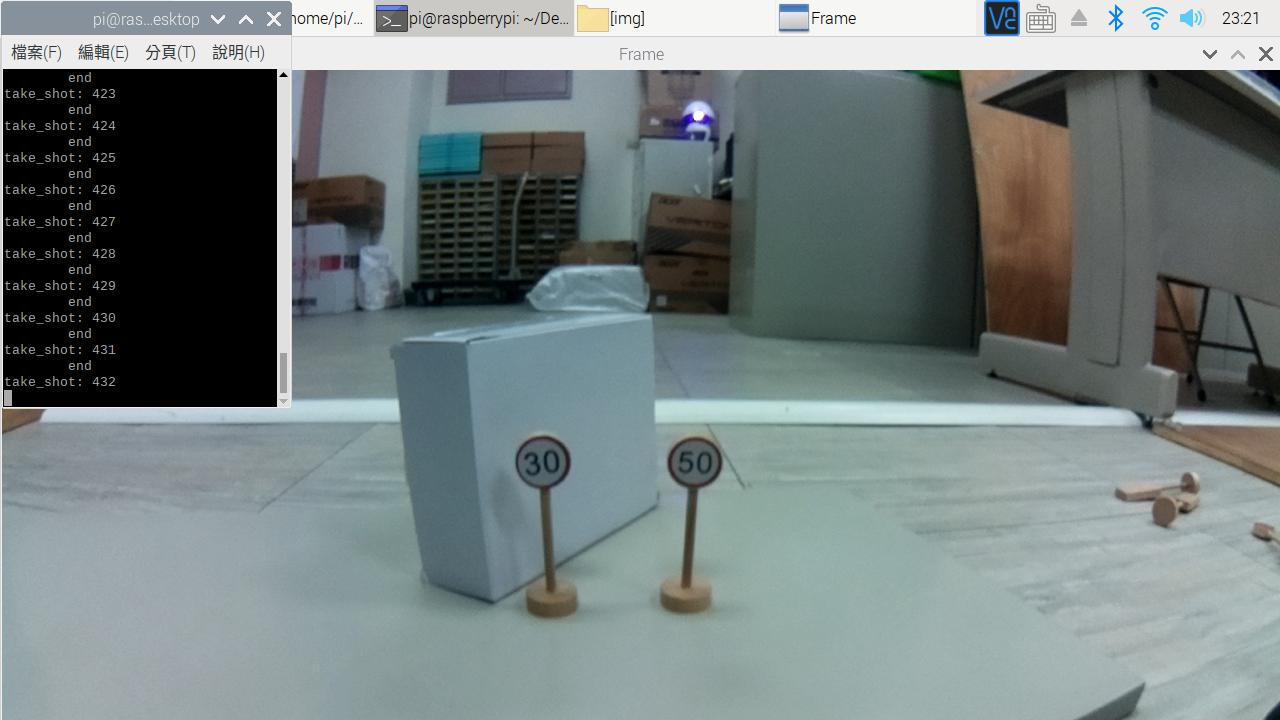Speed30: (500, 426, 590, 517)
Speed50: (657, 429, 739, 499)
